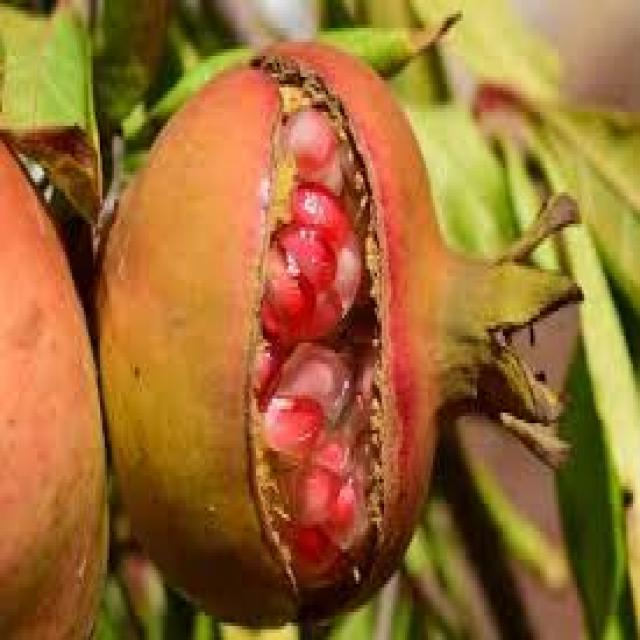overripe: (94, 28, 587, 630)
